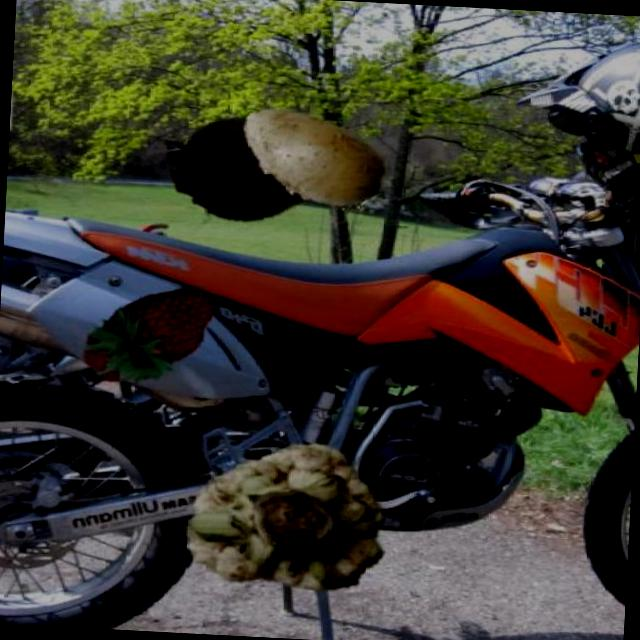Strawberry: (71, 274, 236, 402)
